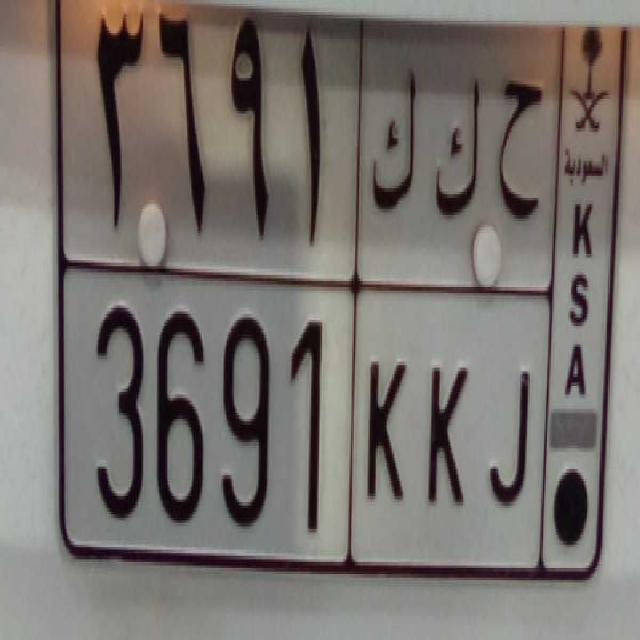license_plate: (62, 257, 543, 572)
